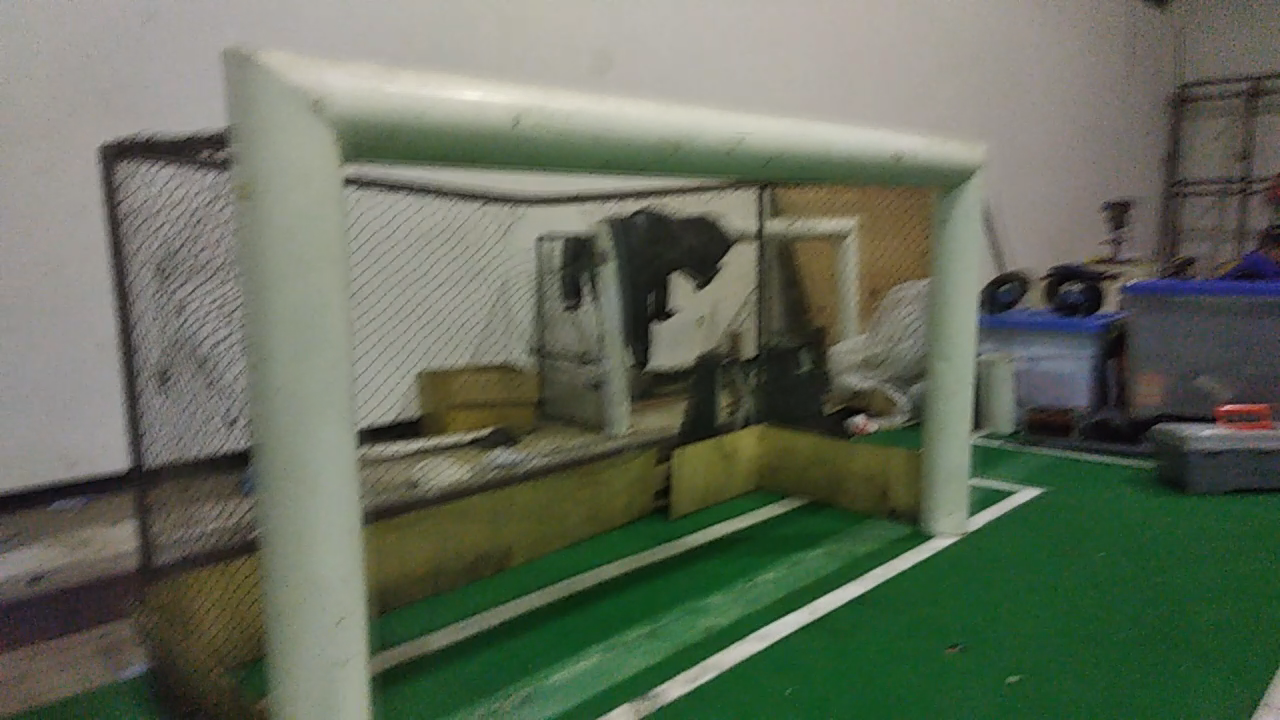gawang: (204, 41, 1000, 713)
